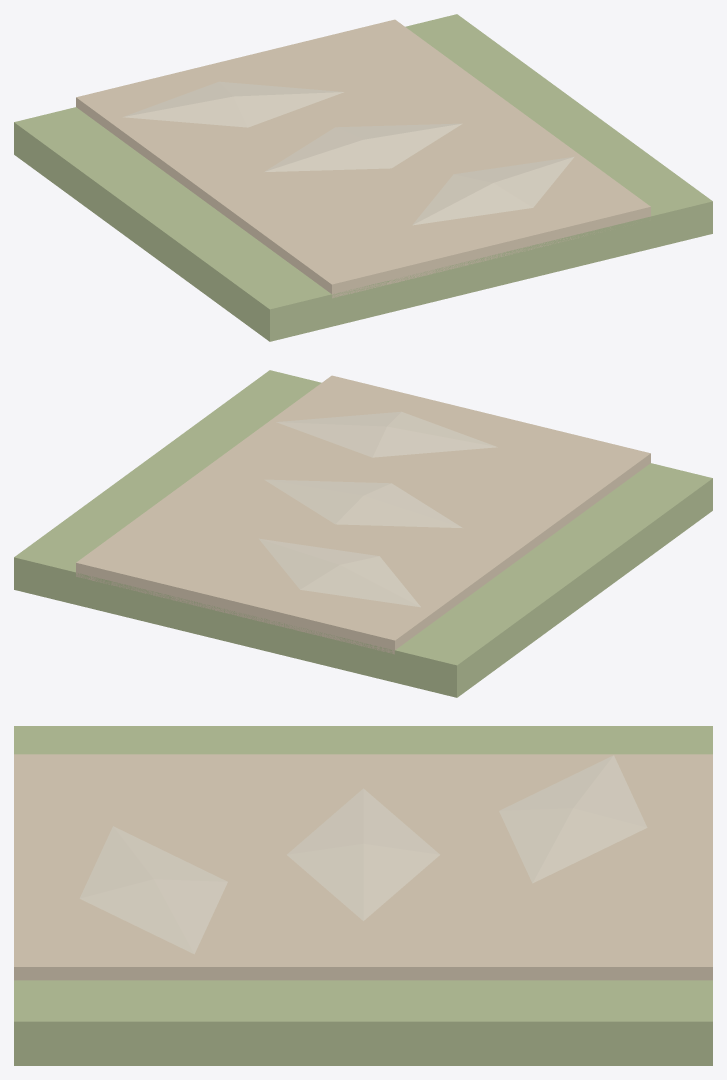
Rendered from path.gltf.
3 renders of one model, top to bottom at view 1: azimuth 30°, elevation 25°; view 2: azimuth 150°, elevation 25°; view 3: azimuth 270°, elevation 25°, orthographic. The views are drawn at different scales.
Parts seen in each view (by area): view 1: path; view 2: path; view 3: path.
Part boxes in pixels (x1,y1,x2,y2): path: (14,14,712,341); path: (14,370,712,697); path: (14,726,712,1065).
Size of the model in its own units: 1 by 0.1175 by 1.
